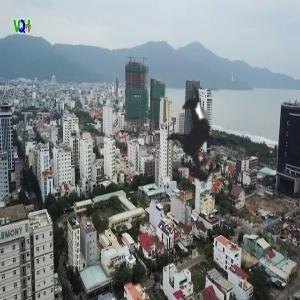drone: (118, 48, 291, 221)
